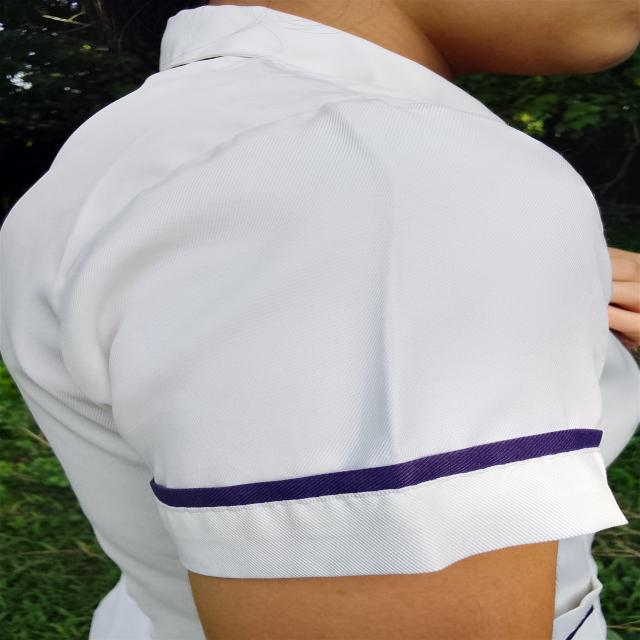education_female_uniform: (9, 6, 640, 640)
